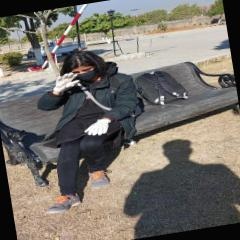gloved: (50, 70, 80, 94), (84, 119, 112, 137)
